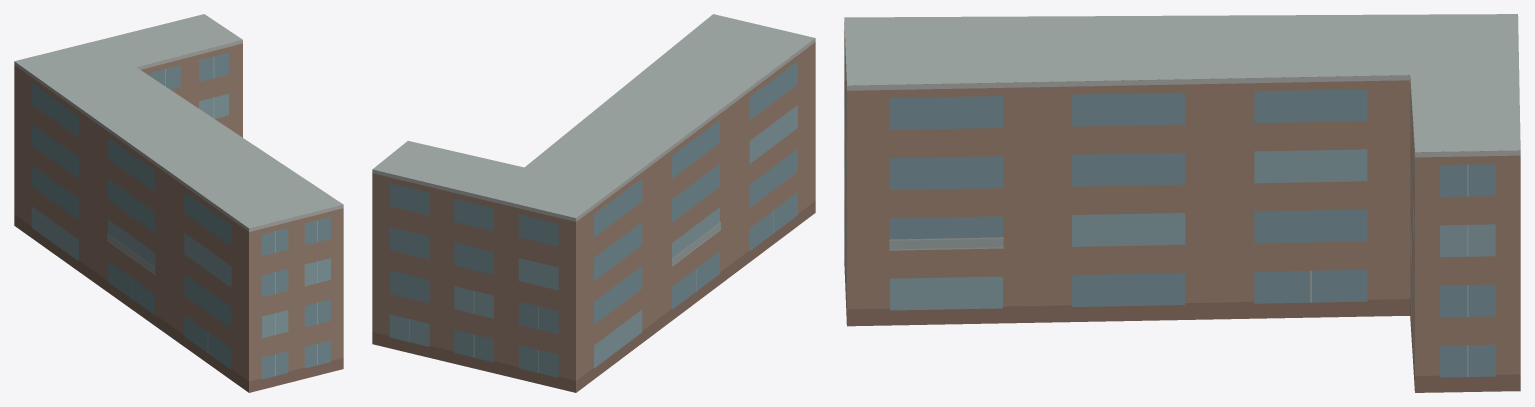
File: survey-upis-32652353.glb
3 views of the same model, side by side, from view 1: azimuth 30°, elevation 25°; view 2: azimuth 150°, elevation 25°; view 3: azimuth 270°, elevation 25° (orthographic). The views are drawn at different scales.
Parts seen in each view (by area): view 1: survey-upis-32652353.tmp; view 2: survey-upis-32652353.tmp; view 3: survey-upis-32652353.tmp.
Part boxes in pixels (left/top/right/bottom): survey-upis-32652353.tmp: left=14, top=14, right=343, bottom=392; survey-upis-32652353.tmp: left=372, top=14, right=815, bottom=392; survey-upis-32652353.tmp: left=844, top=14, right=1520, bottom=392.
Size of the model in its own units: 13.93 by 11.3 by 28.8.
